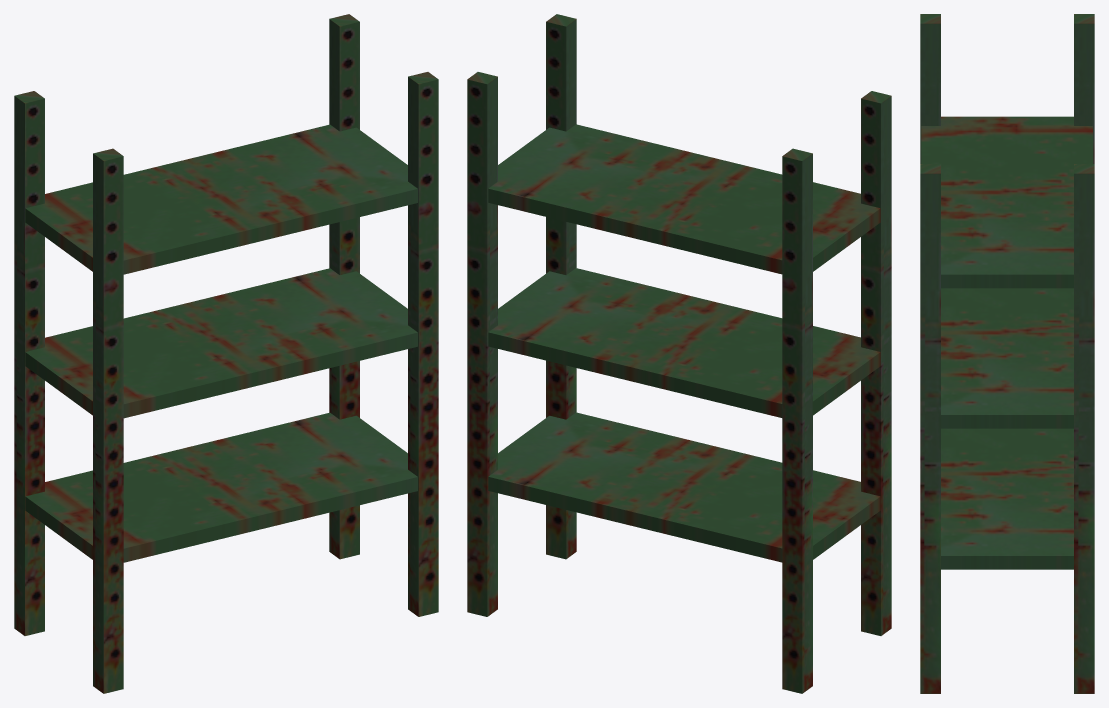
File: rack.fbx
The picture shows the model from 3 angles, left to right: view 1: azimuth 30°, elevation 25°; view 2: azimuth 150°, elevation 25°; view 3: azimuth 270°, elevation 25°; orthographic projection. The views are drawn at different scales.
Visible parts, largest first — view 1: rack; view 2: rack; view 3: rack.
Boxes of the visible parts, box(x1,y1,x2,y2) form: rack: box(14, 14, 438, 693); rack: box(467, 14, 891, 693); rack: box(920, 14, 1094, 693).
Bounding box in the file's own units: 91.31 × 139 × 42.22.
